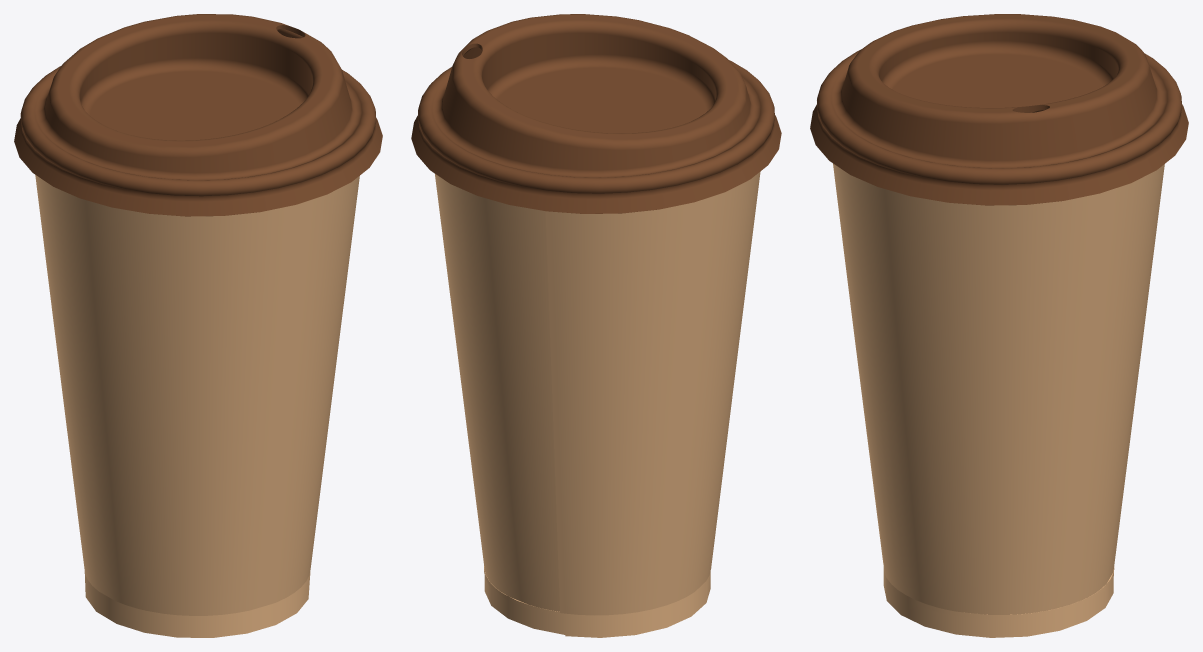
The model's file is moka-pot.glb.
3 renders of one model, left to right at view 1: azimuth 30°, elevation 25°; view 2: azimuth 150°, elevation 25°; view 3: azimuth 270°, elevation 25°, orthographic. The views are drawn at different scales.
Visible parts, largest first — view 1: paper-cup, CupLid; view 2: paper-cup, CupLid; view 3: paper-cup, CupLid.
Boxes of the visible parts, left/top/right/bottom form: paper-cup: left=35, top=175, right=359, bottom=637; CupLid: left=14, top=14, right=382, bottom=216; paper-cup: left=435, top=171, right=760, bottom=637; CupLid: left=411, top=14, right=781, bottom=213; paper-cup: left=833, top=163, right=1164, bottom=637; CupLid: left=810, top=14, right=1188, bottom=205.
Size of the model in its own units: 3.7 by 5.78 by 3.7.
